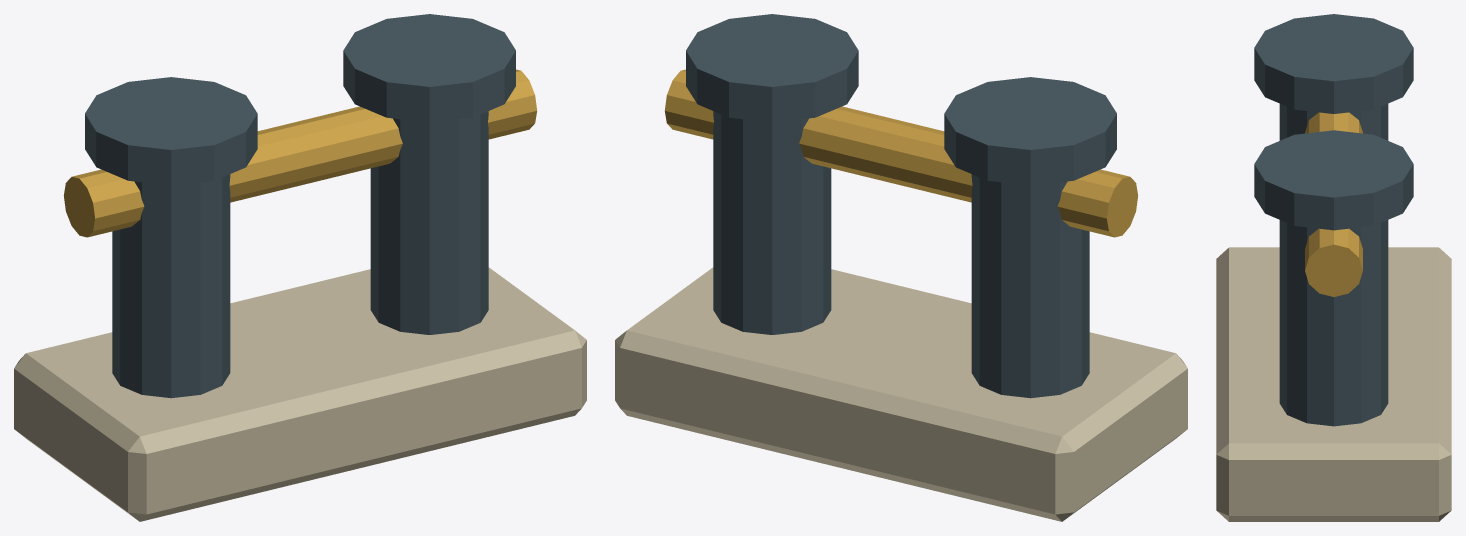
Rendered from mooring_bollards.glb.
3 views of the same model, side by side, from view 1: azimuth 30°, elevation 25°; view 2: azimuth 150°, elevation 25°; view 3: azimuth 270°, elevation 25° (orthographic). The views are drawn at different scales.
Visible parts, largest first — view 1: mooring_bollards; view 2: mooring_bollards; view 3: mooring_bollards.
Boxes of the visible parts, box(x1,y1,x2,y2) form: mooring_bollards: box(14, 14, 586, 521); mooring_bollards: box(615, 14, 1187, 521); mooring_bollards: box(1216, 14, 1451, 521).
Bounding box in the file's own units: 1.35 × 0.97 × 0.65.
